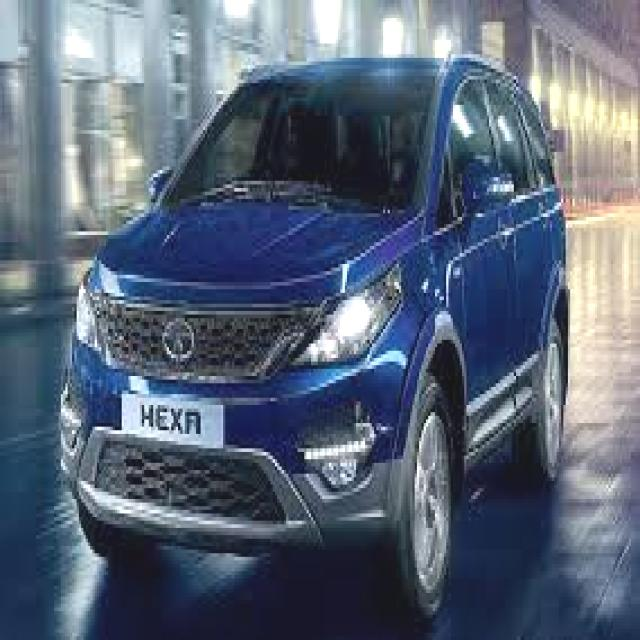SUV: (62, 52, 571, 627)
